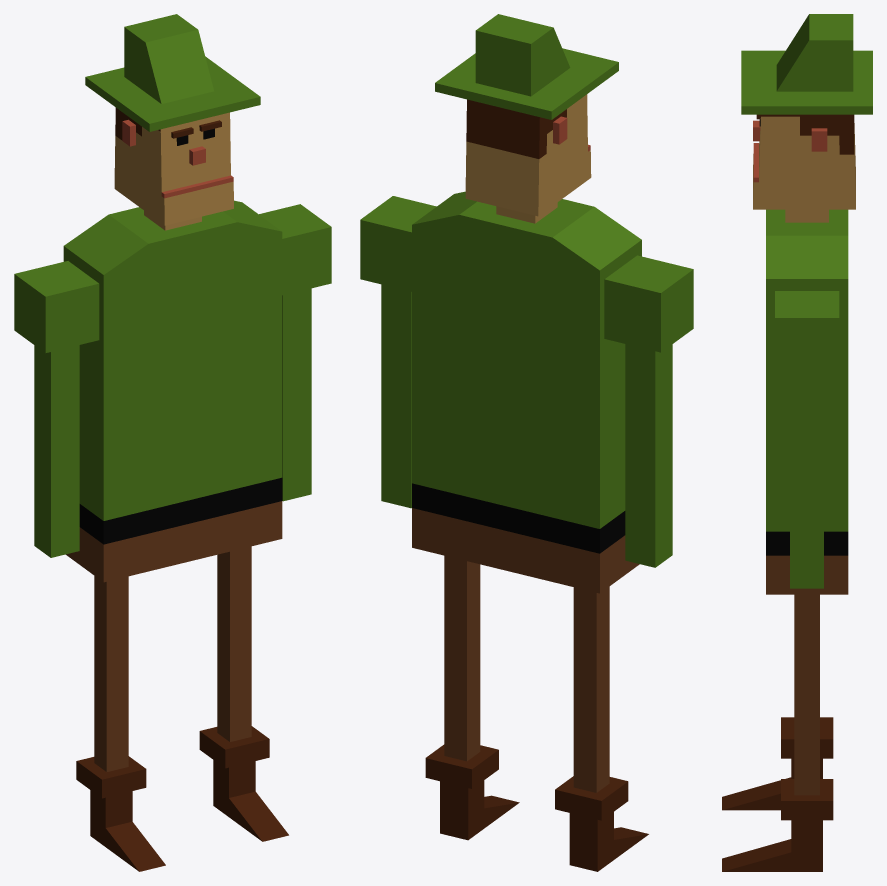
File: lowlowpolychar.fbx
3 renders of one model, left to right at view 1: azimuth 30°, elevation 25°; view 2: azimuth 150°, elevation 25°; view 3: azimuth 270°, elevation 25°, orthographic. The views are drawn at different scales.
Parts seen in each view (by area): view 1: Cube, Cube.002, Cube.004, Cube.003; view 2: Cube, Cube.002, Cube.004, Cube.003; view 3: Cube, Cube.002, Cube.003, Cube.004, Cube.001, Cube.011.
Boxes of the visible parts, x1,y1,x2,y2 form: Cube: [14, 200, 331, 871]; Cube.002: [114, 107, 233, 225]; Cube.004: [124, 14, 213, 103]; Cube.003: [85, 56, 260, 131]; Cube: [360, 191, 693, 871]; Cube.002: [465, 94, 591, 216]; Cube.004: [475, 14, 570, 96]; Cube.003: [435, 48, 618, 119]; Cube: [722, 209, 848, 871]; Cube.002: [753, 114, 855, 209]; Cube.003: [741, 50, 872, 114]; Cube.004: [776, 14, 853, 91]; Cube.001: [785, 209, 828, 222]; Cube.011: [811, 128, 827, 151].
Size of the model in its own units: 693 by 1820 by 308.
